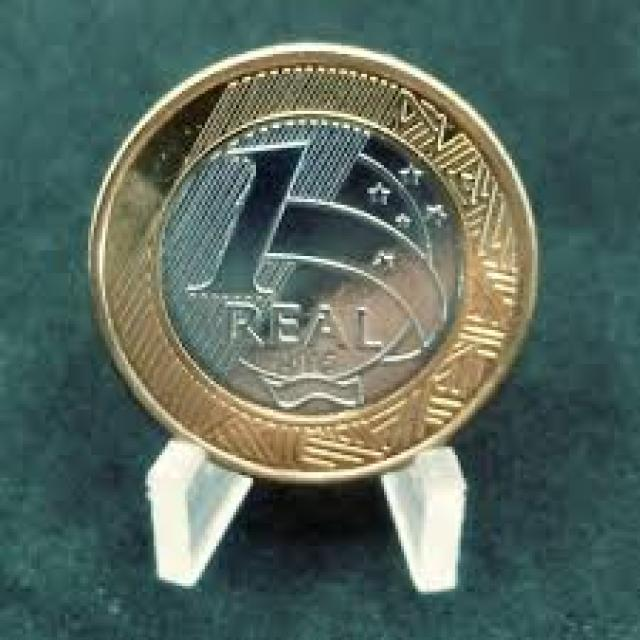1 real: (100, 44, 530, 480)
